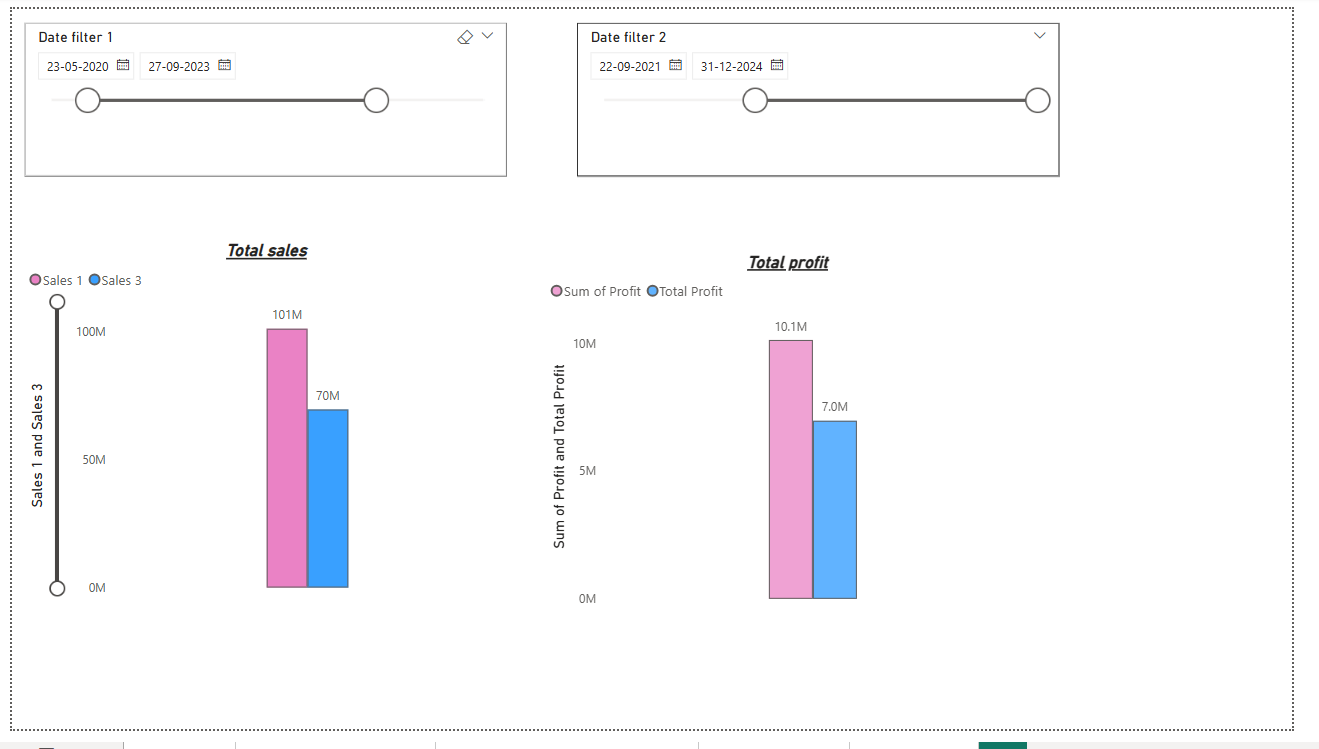

The dashboard page shown, as its layout file describes it:
{"tool":"powerbi","page":{"name":"Comparision of sales and profit","canvas":[1280,720],"ordinal":2},"visuals":[{"type":"slicer","fields":{"Values":["Date Table 1.Date"]},"box":[12.5,13.8,482.5,153.8],"z":0},{"type":"slicer","fields":{"Values":["Date Table 2.Date"]},"box":[565,13.8,482.5,153.8],"z":1000},{"type":"clusteredColumnChart","title":"Total sales","fields":{"Y":["Sum(fact.Net Sales)","Date Table 1.sum of net sales"]},"box":[12.5,231.2,483.8,361.2],"z":2000},{"type":"clusteredColumnChart","title":"Total profit","fields":{"Y":["Sum(fact.Profit)","Measures Table.Total Profit"]},"box":[533.8,242.5,483.8,361.2],"z":3000}]}

Visuals, with their boxes in screenshot pixels (x1, y1, x2, y2), scaled from the page's 1280x720 canvas onto the 1319x749 screenshot:
slicer - Date Table 1.Date: (x1=13, y1=14, x2=510, y2=174)
slicer - Date Table 2.Date: (x1=582, y1=14, x2=1079, y2=174)
"Total sales" clusteredColumnChart: (x1=13, y1=241, x2=511, y2=616)
"Total profit" clusteredColumnChart: (x1=550, y1=252, x2=1049, y2=628)
